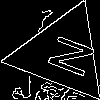N: (36, 29, 96, 80)
